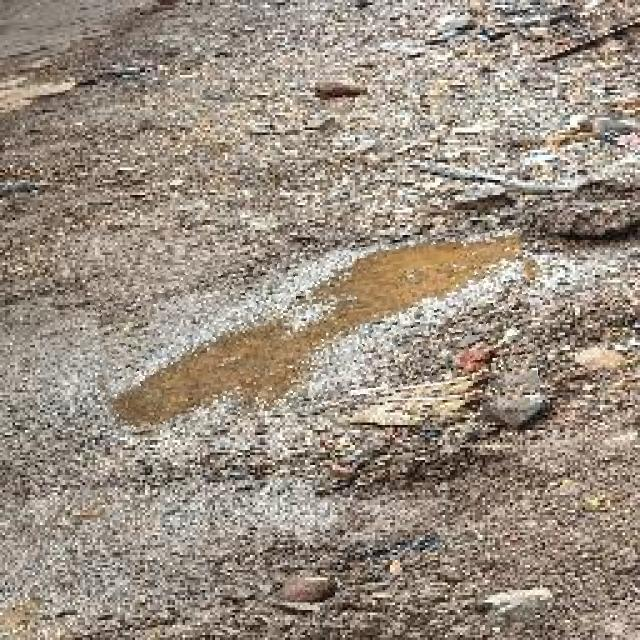puddle: (96, 242, 536, 424)
